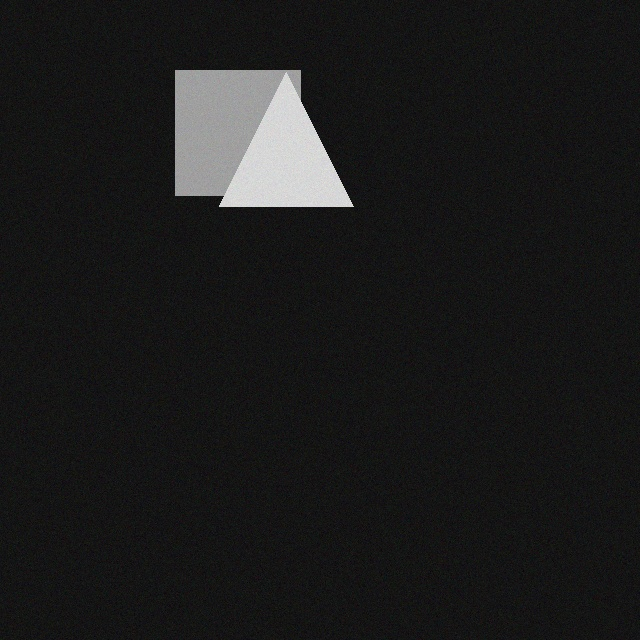square: (162, 67, 287, 192)
triangle: (206, 69, 340, 203)
